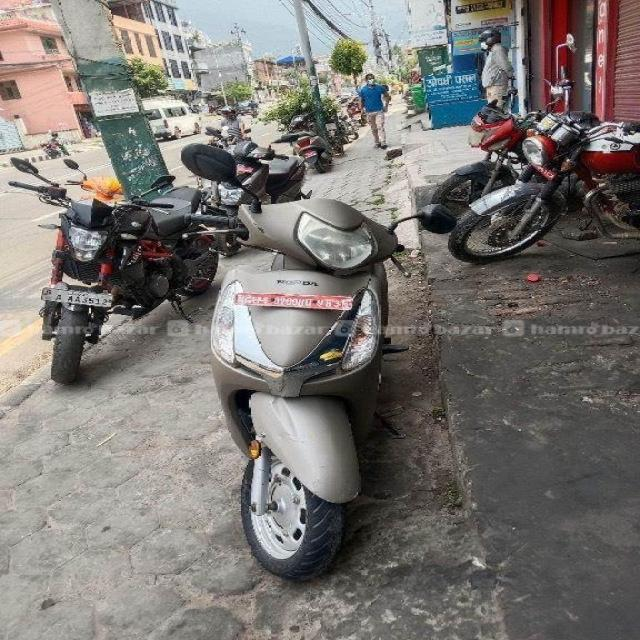License-plate: (229, 295, 353, 310), (42, 288, 118, 310)
